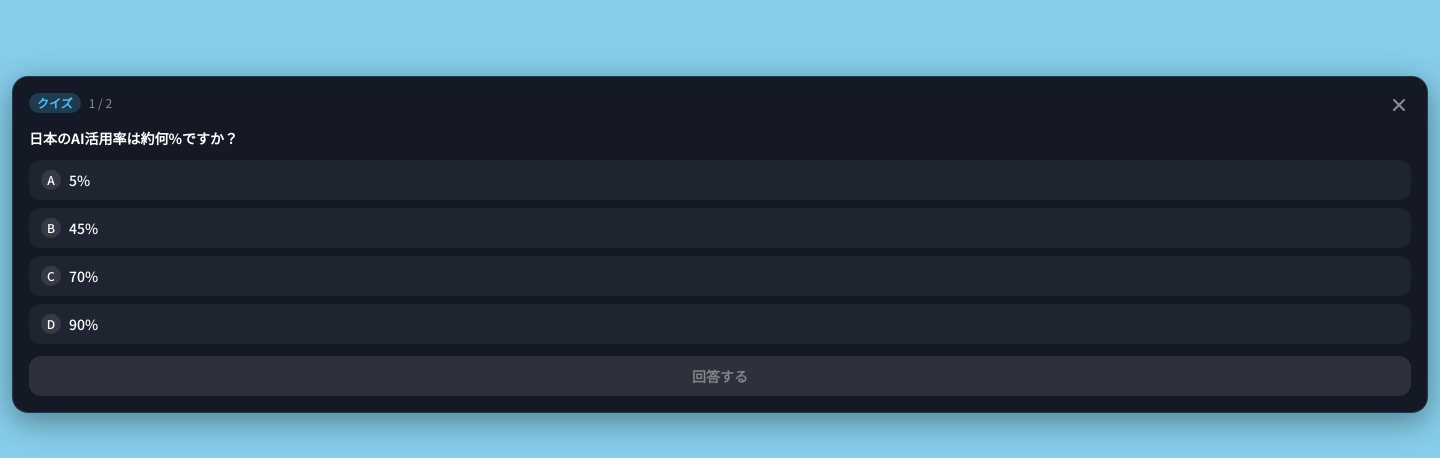
QuizOverlay - correct answer › shows explanation after answering when showExplanationAfterAnswer is true
The image size is (1440, 458).
Click the text "45%".
click(84, 228)  # box top-left (69, 218), bottom-right (98, 238)
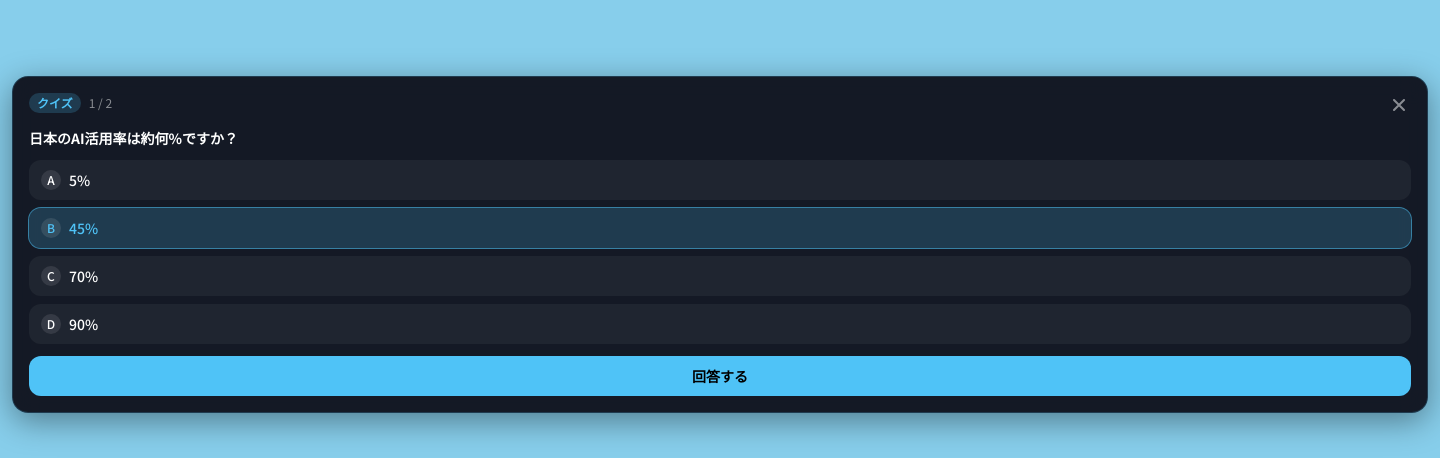
Click the button "回答する".
click(720, 376)  # box top-left (29, 356), bottom-right (1411, 396)
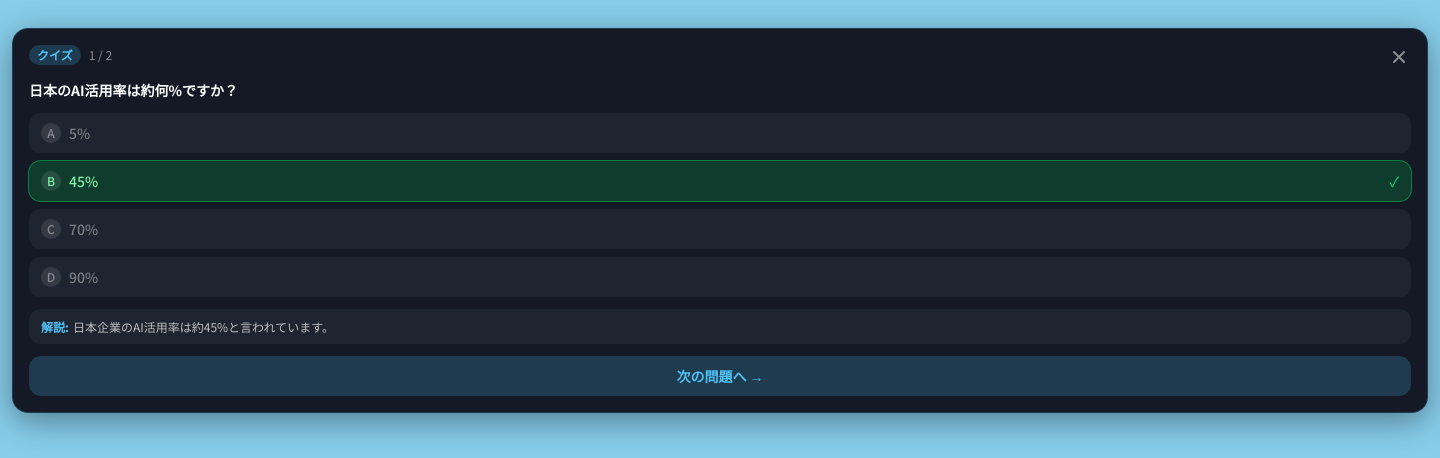
Result: the text "解説:日本企業のAI活用率は約45%と言われています。" is shown at top-left (41, 318), bottom-right (334, 334)
